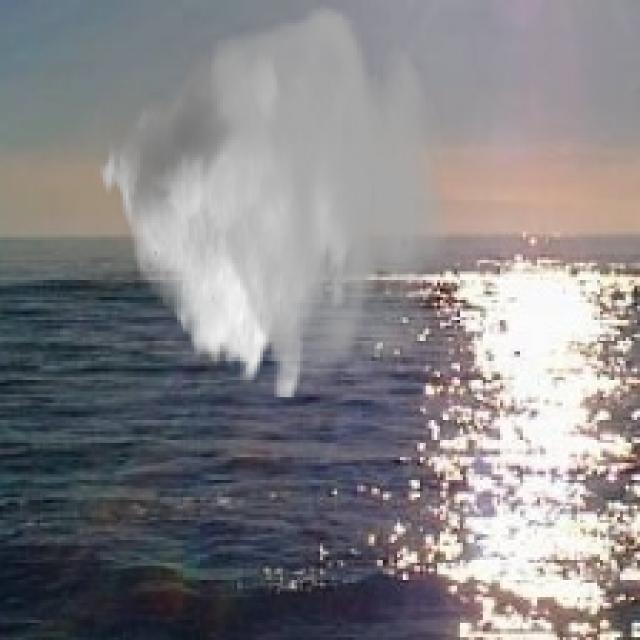Smoke: (97, 0, 449, 397)
